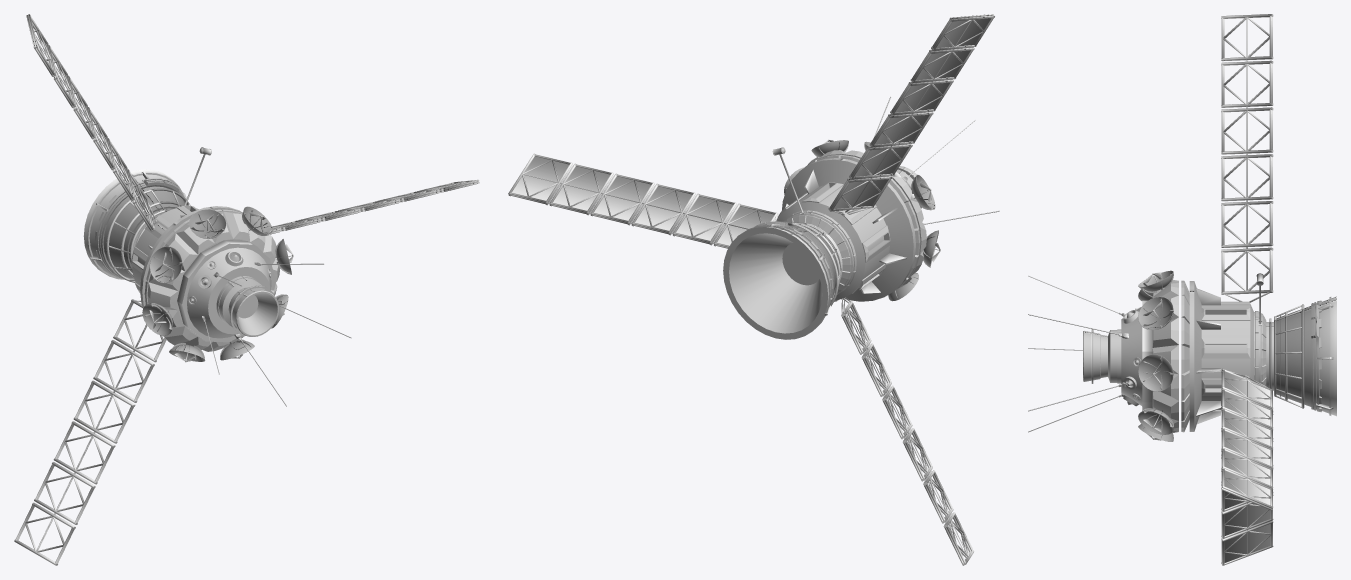
3 renders of one model, left to right at view 1: azimuth 30°, elevation 25°; view 2: azimuth 150°, elevation 25°; view 3: azimuth 270°, elevation 25°, orthographic. The views are drawn at different scales.
Parts seen in each view (by area): view 1: 卫星; view 2: 卫星; view 3: 卫星.
Part boxes in pixels (box(x1,y1,x2,y2)): 卫星: box(14, 14, 479, 565); 卫星: box(508, 14, 999, 565); 卫星: box(1028, 14, 1336, 565).
Size of the model in its own units: 1.75 by 2.01 by 1.02.
Materials: 1 (1 with a texture image).
